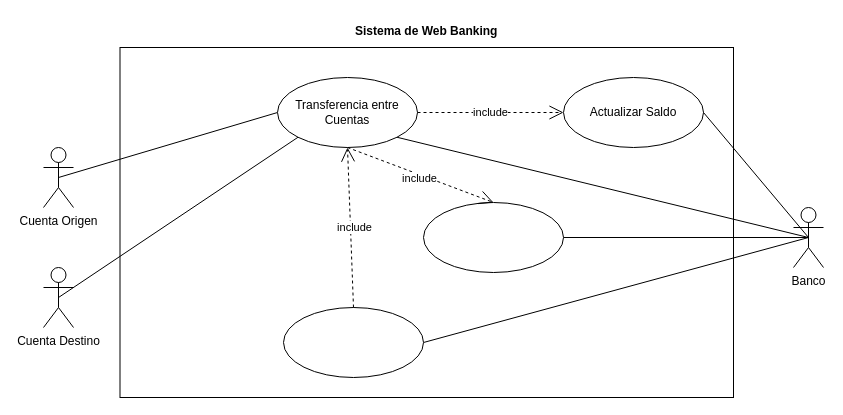
Image size: 843x415. Some labels were removed from this diagram. Each missing label, with the box of its shape:
Validar Pin de Cuenta: (282, 306, 424, 378)
Validar Pin de Transacción: (422, 202, 564, 272)
